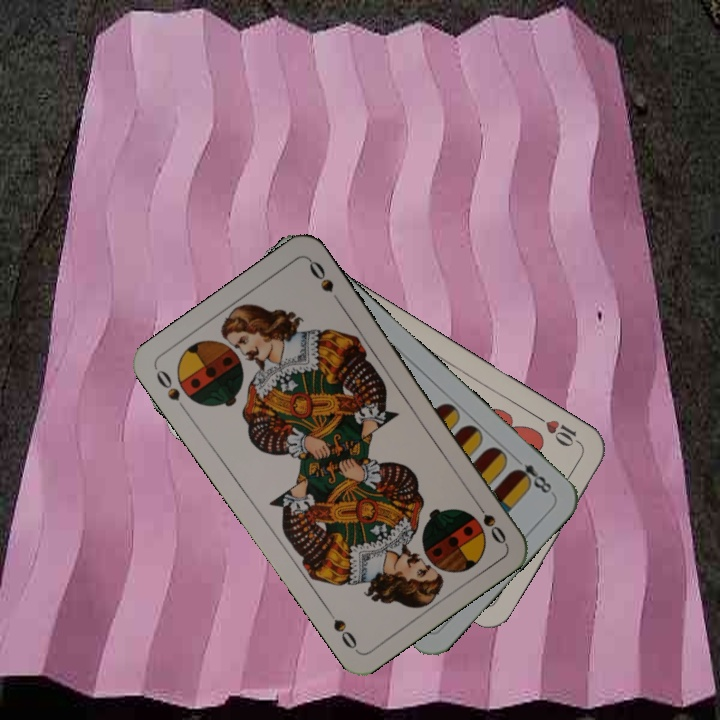E8: (509, 452, 555, 496)
H10: (532, 411, 585, 450)
SO: (469, 494, 509, 547), (152, 365, 191, 417)
